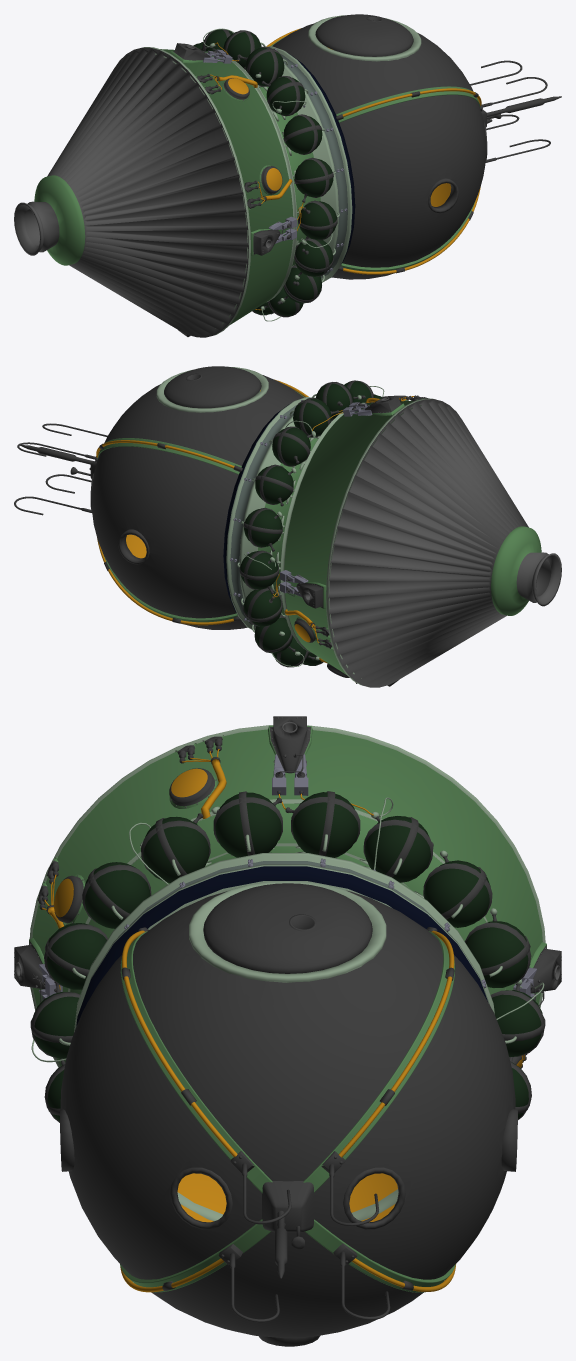
File: Vostok H-res.fbx
3 views of the same model, one above another, from view 1: azimuth 30°, elevation 25°; view 2: azimuth 150°, elevation 25°; view 3: azimuth 270°, elevation 25° (orthographic). The views are drawn at different scales.
Parts seen in each view (by area): view 1: Empty_Mesh_4, Empty_Mesh_2, Empty_Mesh, Empty_Mesh_5, Empty_Mesh_3, Empty_Mesh_1; view 2: Empty_Mesh_4, Empty_Mesh_2, Empty_Mesh, Empty_Mesh_3, Empty_Mesh_5, Empty_Mesh_1; view 3: Empty_Mesh_2, Empty_Mesh_4, Empty_Mesh, Empty_Mesh_3, Empty_Mesh_1, Empty_Mesh_5.
Boxes of the visible parts, x1,y1,x2,y2 form: Empty_Mesh_4: (14, 46, 355, 337); Empty_Mesh_2: (272, 15, 487, 279); Empty_Mesh: (193, 29, 339, 317); Empty_Mesh_5: (170, 28, 332, 336); Empty_Mesh_3: (266, 28, 561, 274); Empty_Mesh_1: (315, 14, 413, 56); Empty_Mesh_4: (223, 397, 561, 687); Empty_Mesh_2: (90, 366, 303, 629); Empty_Mesh: (237, 380, 382, 667); Empty_Mesh_3: (14, 379, 308, 625); Empty_Mesh_5: (244, 386, 429, 686); Empty_Mesh_1: (164, 366, 261, 408); Empty_Mesh_2: (60, 881, 517, 1346); Empty_Mesh_4: (29, 725, 545, 1221); Empty_Mesh: (30, 791, 545, 1122); Empty_Mesh_3: (120, 927, 455, 1322); Empty_Mesh_1: (203, 883, 372, 973); Empty_Mesh_5: (14, 716, 561, 1068).
Bounding box in the file's own units: 11.68 × 6.01 × 6.01.
